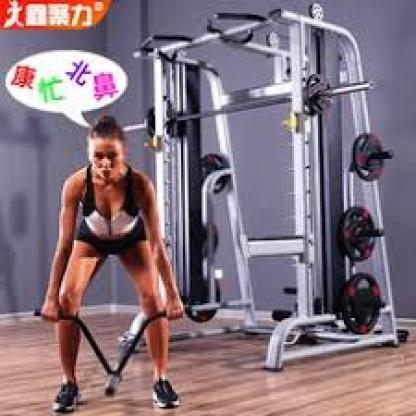smith machine: (181, 4, 409, 372)
